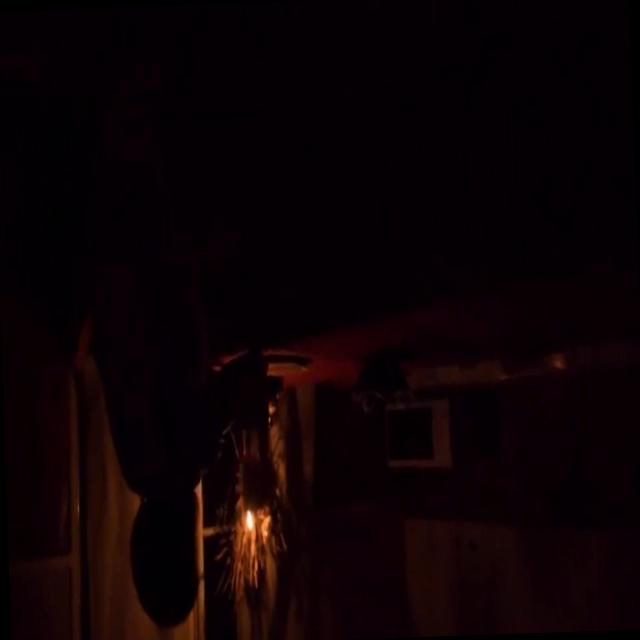fire: (230, 474, 272, 571)
